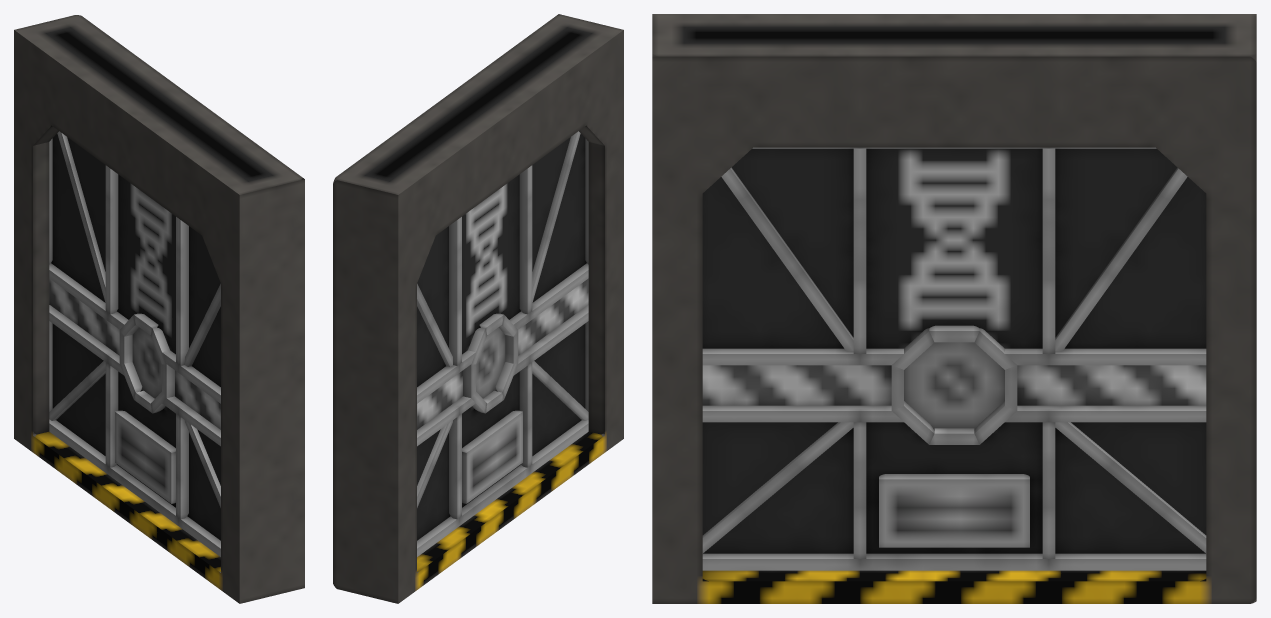
File: containment_door.obj
3 renders of one model, left to right at view 1: azimuth 30°, elevation 25°; view 2: azimuth 150°, elevation 25°; view 3: azimuth 270°, elevation 25°, orthographic. The views are drawn at different scales.
Parts seen in each view (by area): view 1: Frame, Door; view 2: Frame, Door; view 3: Door, Frame.
Part boxes in pixels (x1,y1,x2,y2): Frame: [14, 15, 304, 603]; Door: [49, 131, 220, 556]; Frame: [333, 14, 623, 603]; Door: [417, 131, 588, 556]; Door: [702, 147, 1206, 570]; Frame: [652, 14, 1256, 603].
Size of the model in its own units: 0.5 by 3 by 3.
Materials: 1 (1 with a texture image).
